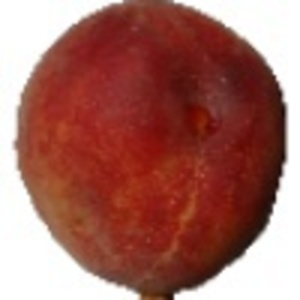pêssego: (12, 1, 289, 300)
